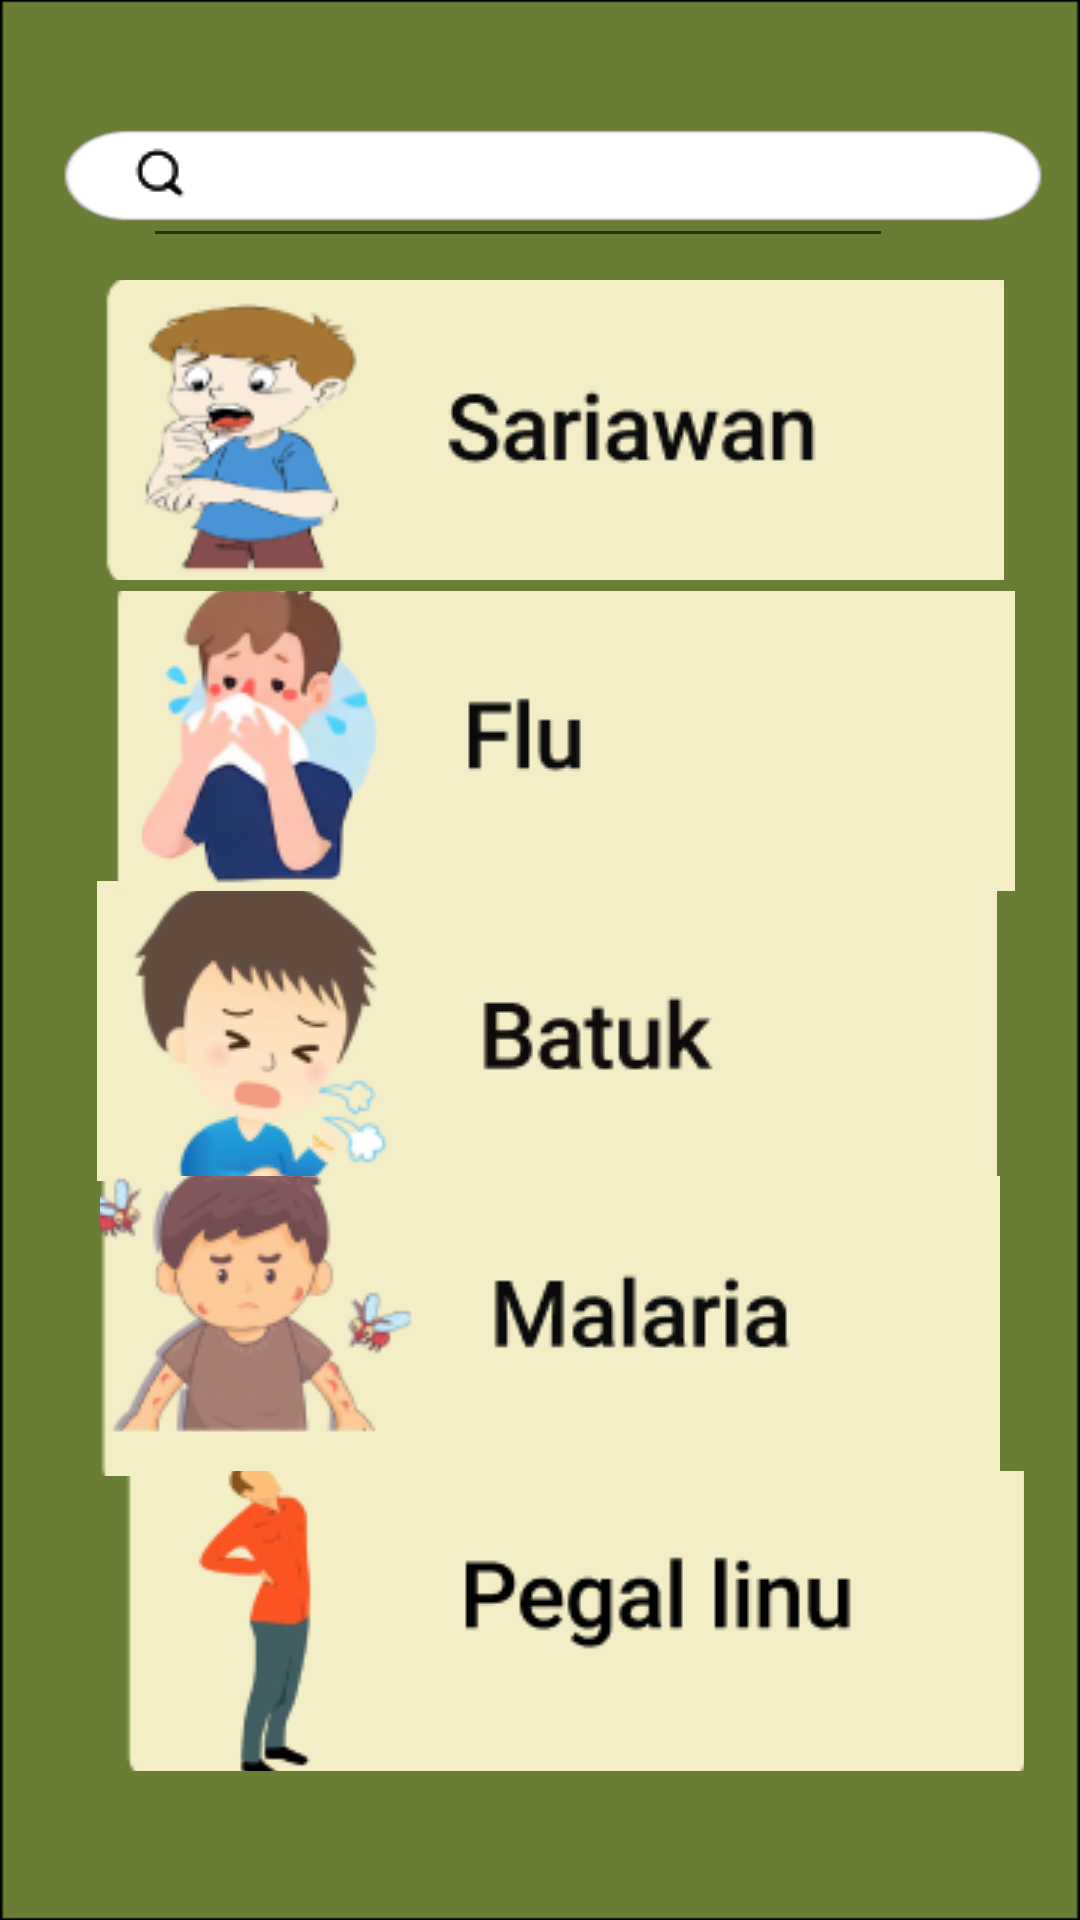

Where icons sit on this 1080x1920 app screen, as BBox(x1, y1, x2, y2):
search: BBox(135, 148, 185, 198)
